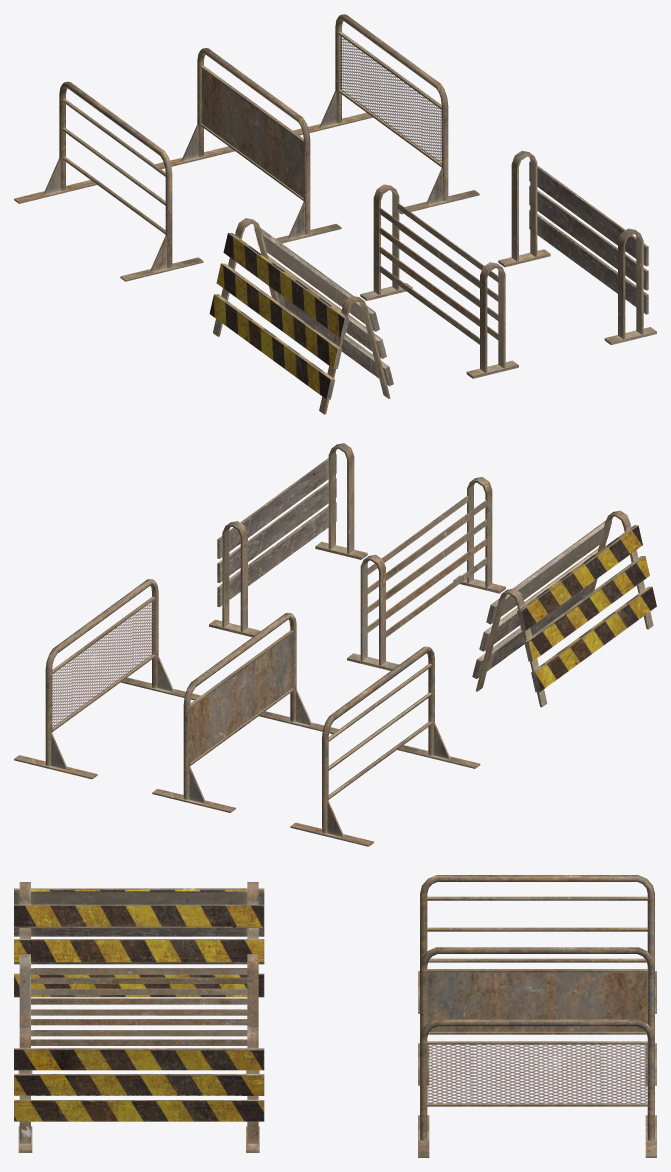
File: fences_wood_game.glb
The picture shows the model from 3 angles, top to bottom: view 1: azimuth 30°, elevation 25°; view 2: azimuth 150°, elevation 25°; view 3: azimuth 270°, elevation 25°; orthographic projection. The views are drawn at different scales.
Visible parts, largest first — view 1: Object_4; view 2: Object_4; view 3: Object_4.
Part boxes in pixels (box(x1,y1,x2,y2)): Object_4: box(14, 14, 656, 414); Object_4: box(14, 443, 656, 846); Object_4: box(14, 875, 656, 1157).
Bounding box in the file's own units: 3.21 × 0.9814 × 4.71.
Materials: 1 (1 with a texture image).
